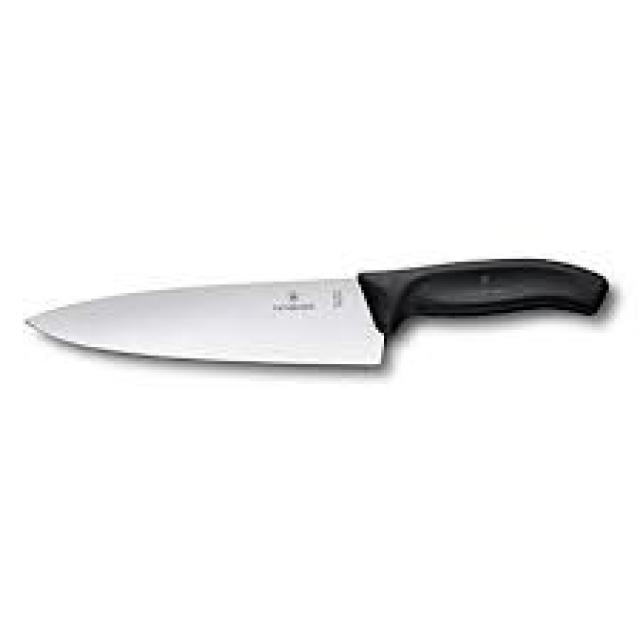knife: (20, 257, 628, 373)
